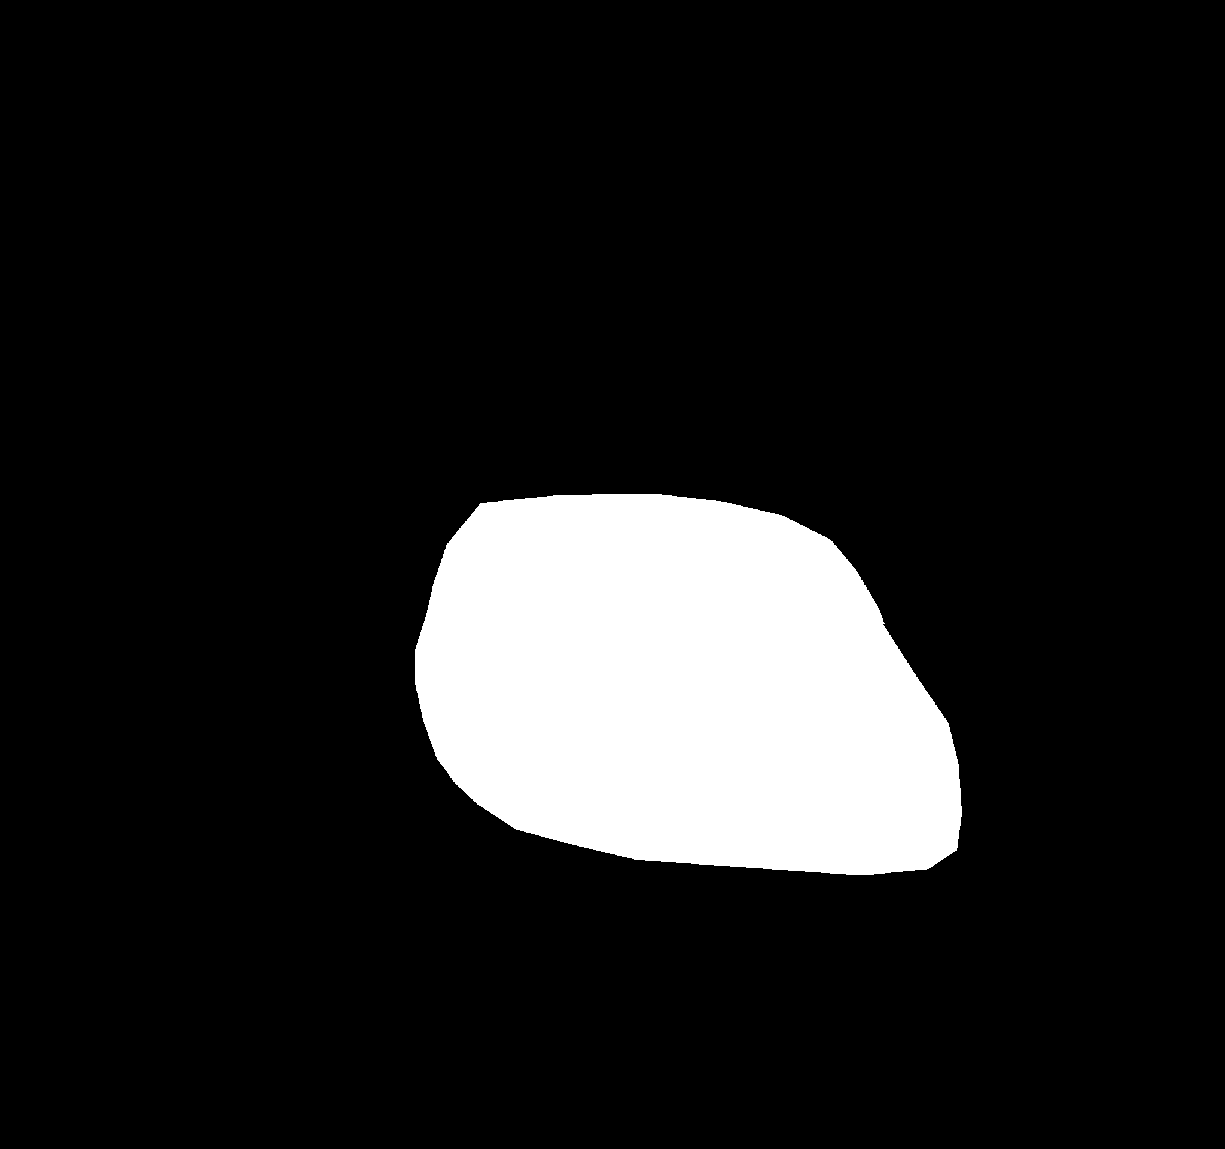heart: (418, 528, 960, 921)
left_lung: (111, 130, 543, 802)
right_lung: (789, 225, 1080, 976)
